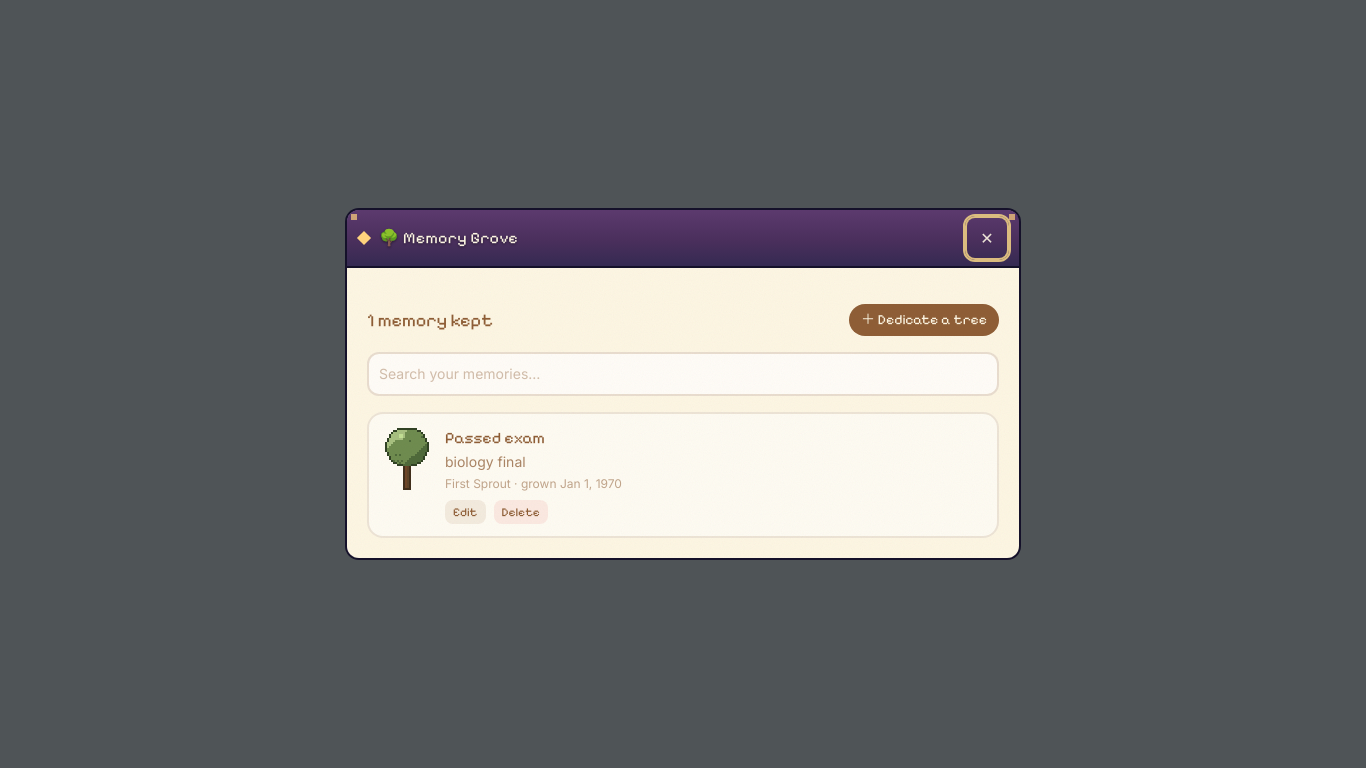
Test: MemoryGroveModal › edits a memory in place
Click the button with aria-label "edit memory passed exam" at (465, 512), box [445,500,486,524]
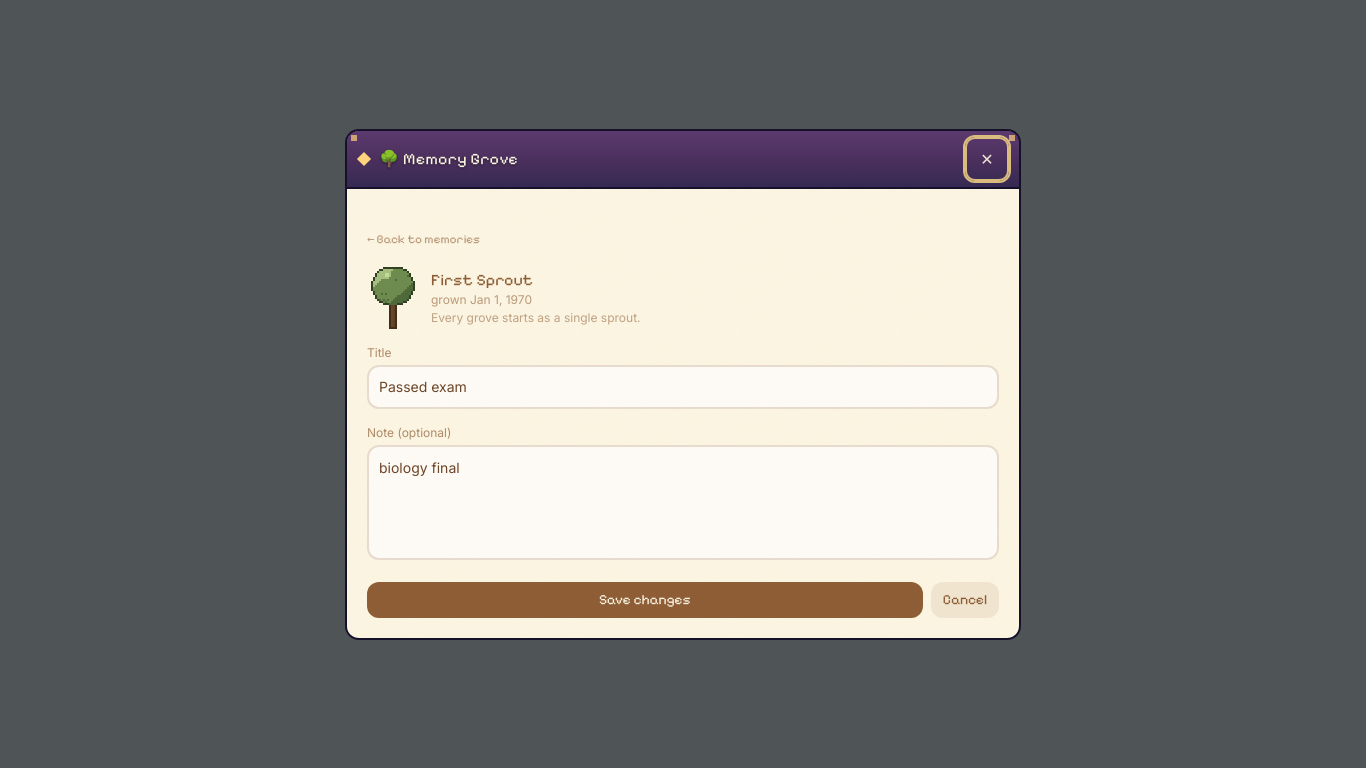
expect the field labelled "Title" holds "Passed exam": met
Replace the text in the field labelled "Title" with "Passed the final" at (683, 386), box [367,364,999,408]
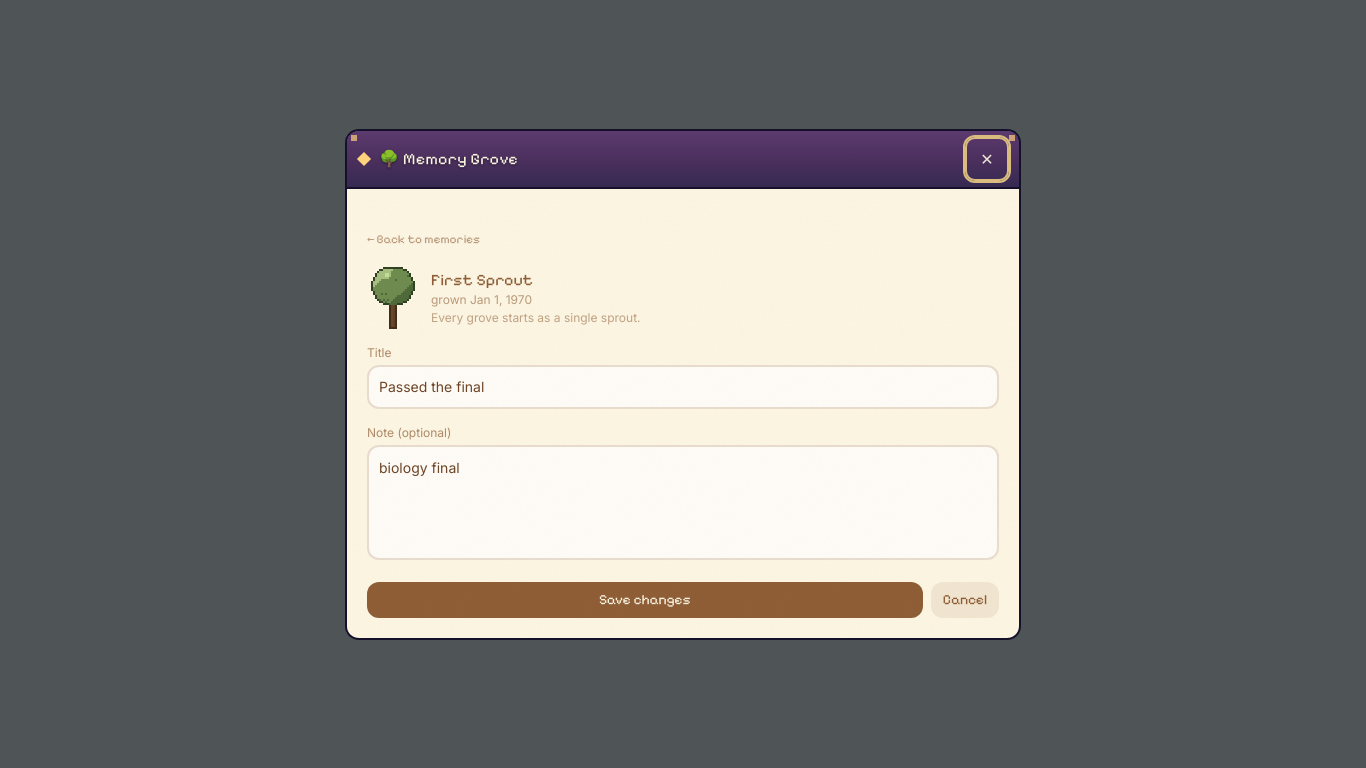
Click the button "Save changes" at (645, 600), box [367,582,923,618]
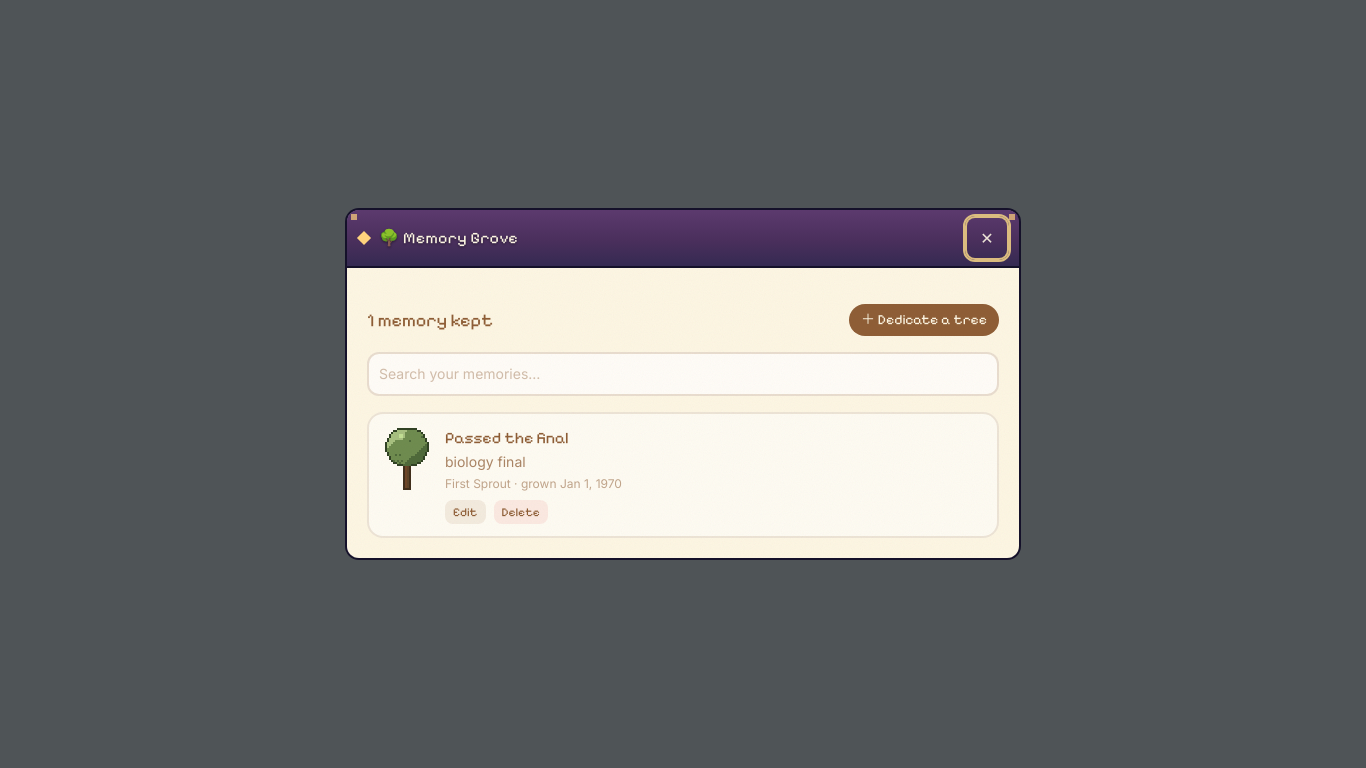
expect the text "Passed exam" is not shown: met
expect the text "Passed the final" is shown: met, box [445,428,569,447]
